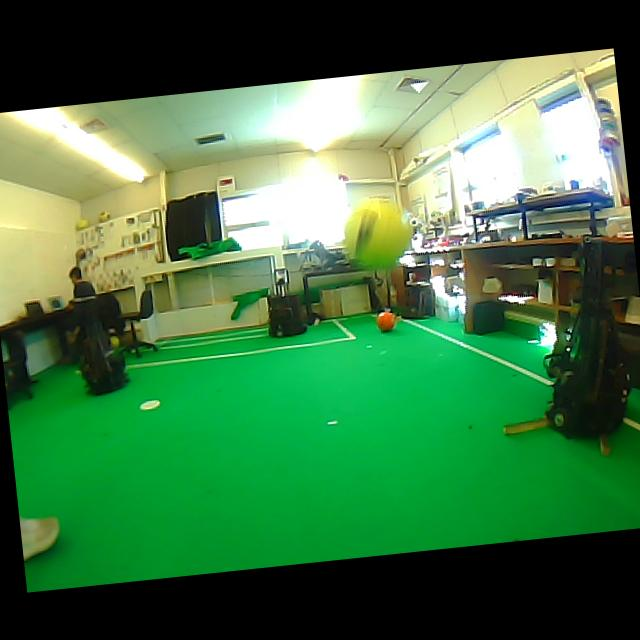ball: (345, 199, 410, 268), (376, 310, 396, 331), (75, 218, 90, 229), (98, 211, 109, 221), (110, 336, 118, 347)
robot: (546, 237, 630, 437), (80, 321, 129, 394), (267, 268, 306, 335)
